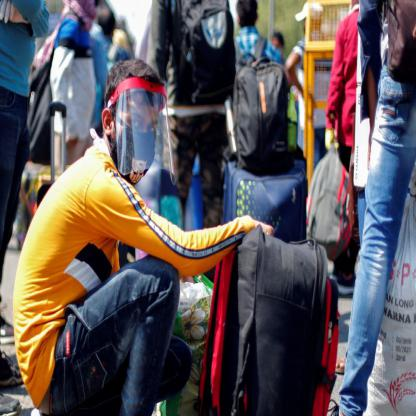Wearing_Mask: (115, 82, 158, 184)
